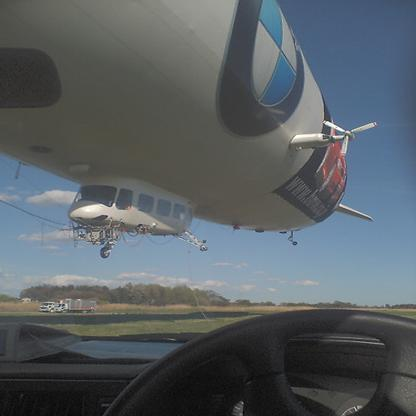Airship: (17, 4, 379, 267)
